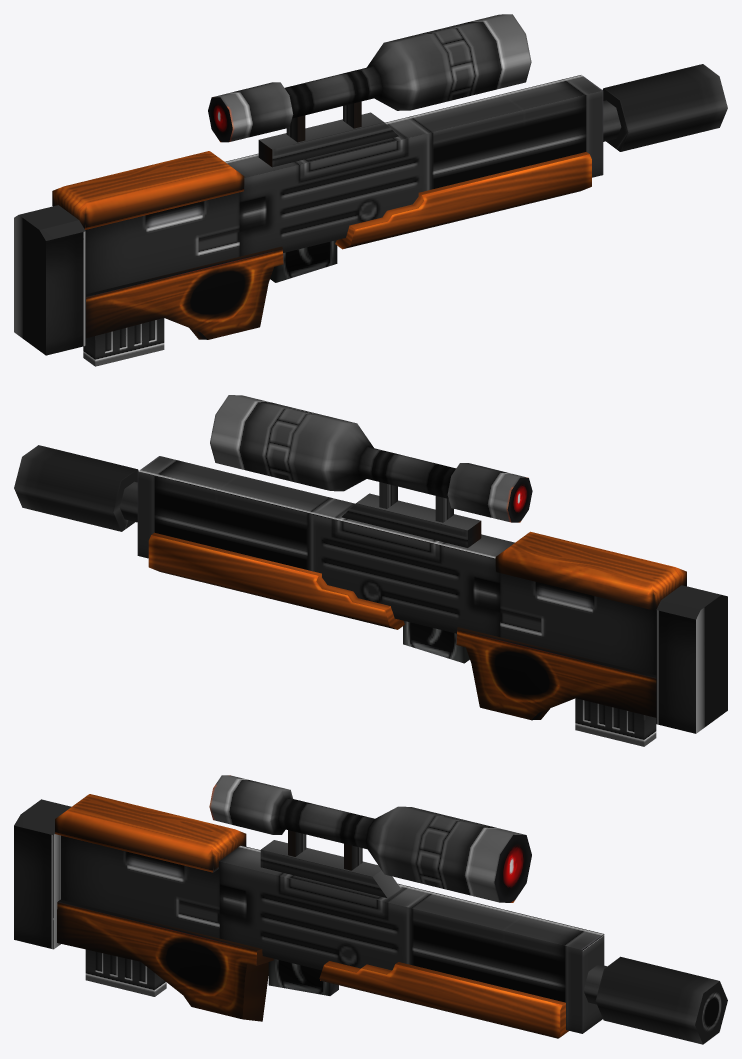
Rendered from sniper wa2000 lv2.FBX.
The picture shows the model from 3 angles, top to bottom: view 1: azimuth 30°, elevation 25°; view 2: azimuth 150°, elevation 25°; view 3: azimuth 330°, elevation 25°; orthographic projection.
Visible parts, largest first — view 1: Object073; view 2: Object073; view 3: Object073.
Boxes of the visible parts, x1,y1,x2,y2 form: Object073: (14, 14, 727, 366); Object073: (14, 395, 727, 746); Object073: (14, 775, 727, 1044).
Bounding box in the file's own units: 102 × 35.73 × 9.81.
